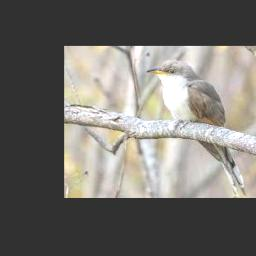Cuckoo: (145, 60, 247, 196)
